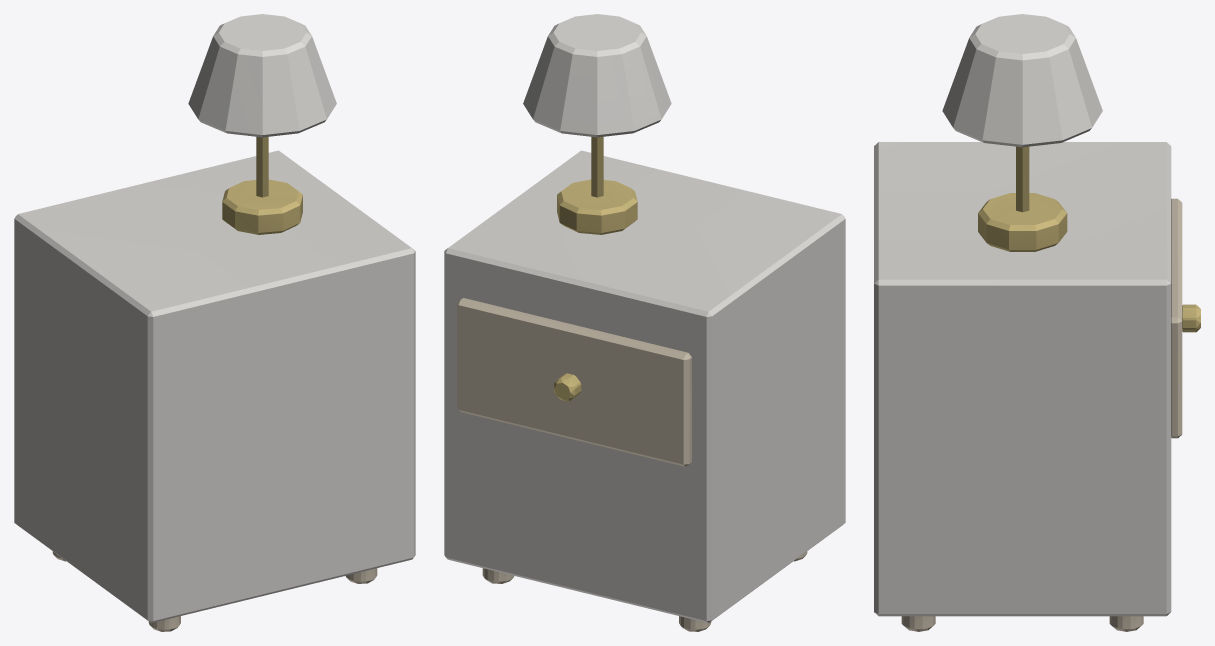
File: furn_nightstand__white.glb
3 renders of one model, left to right at view 1: azimuth 30°, elevation 25°; view 2: azimuth 150°, elevation 25°; view 3: azimuth 270°, elevation 25°, orthographic. The views are drawn at different scales.
Bounding box in the file's own units: 0.45 × 0.84 × 0.44.
